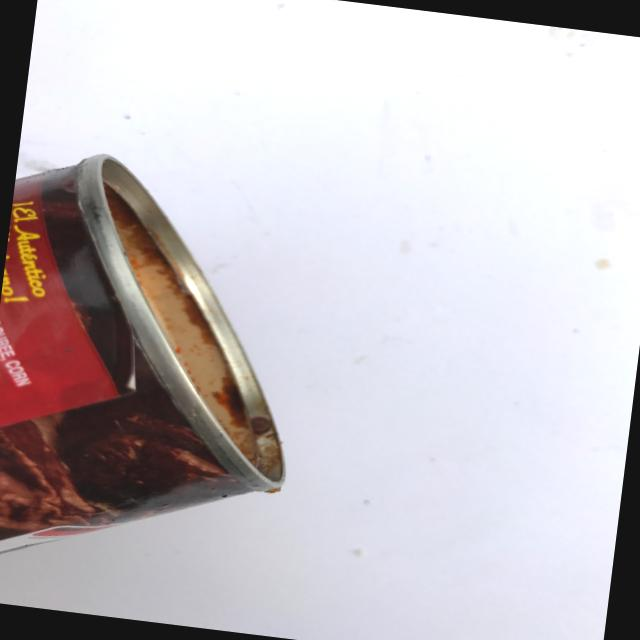Metal: (0, 128, 333, 613)
